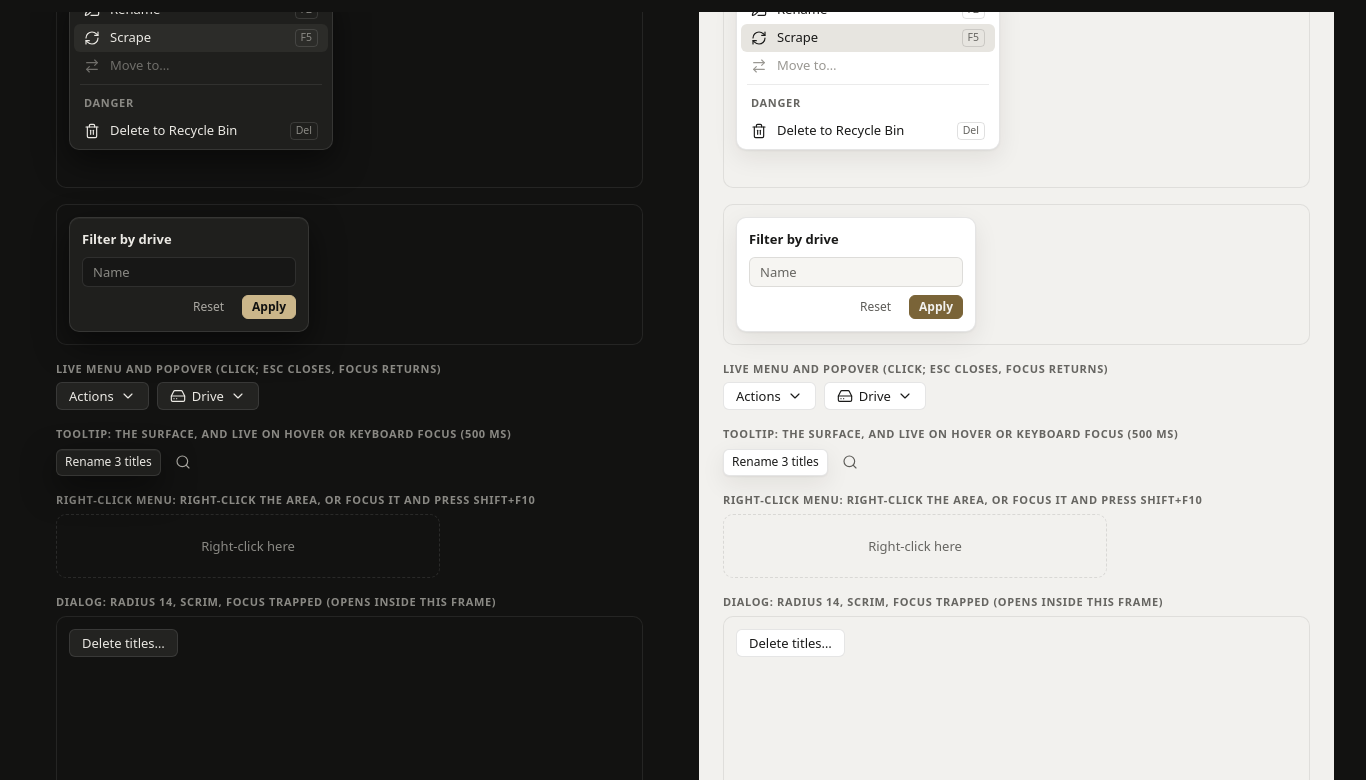
Test: component gallery › shows the floating surfaces and draws a live menu inside its own column
Expected: the 2nd button "Delete titles…" is shown, [736,629,845,657]
Click the 2nd button "Actions" at (769, 396), box [723,382,816,410]
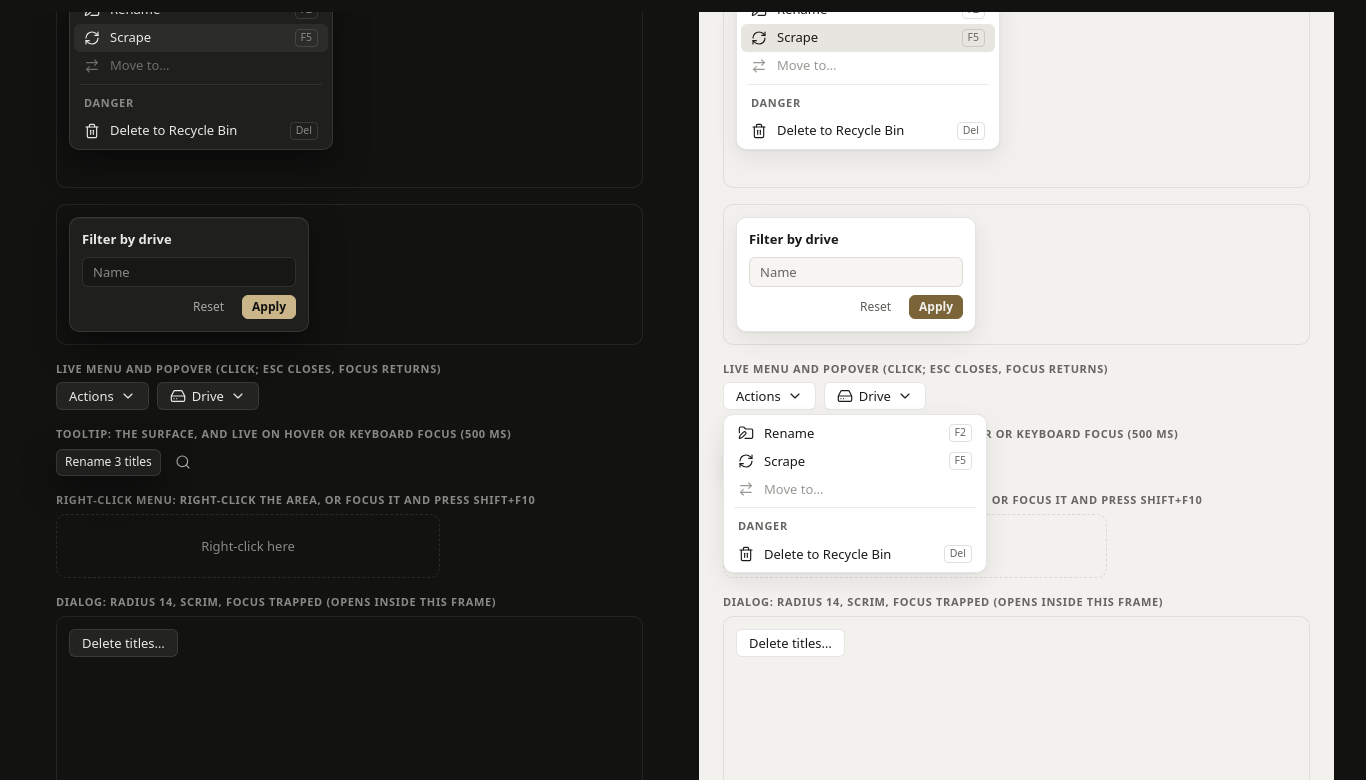
Now the menu item "Delete to Recycle Bin Del" is shown, box [728,540,982,568]
